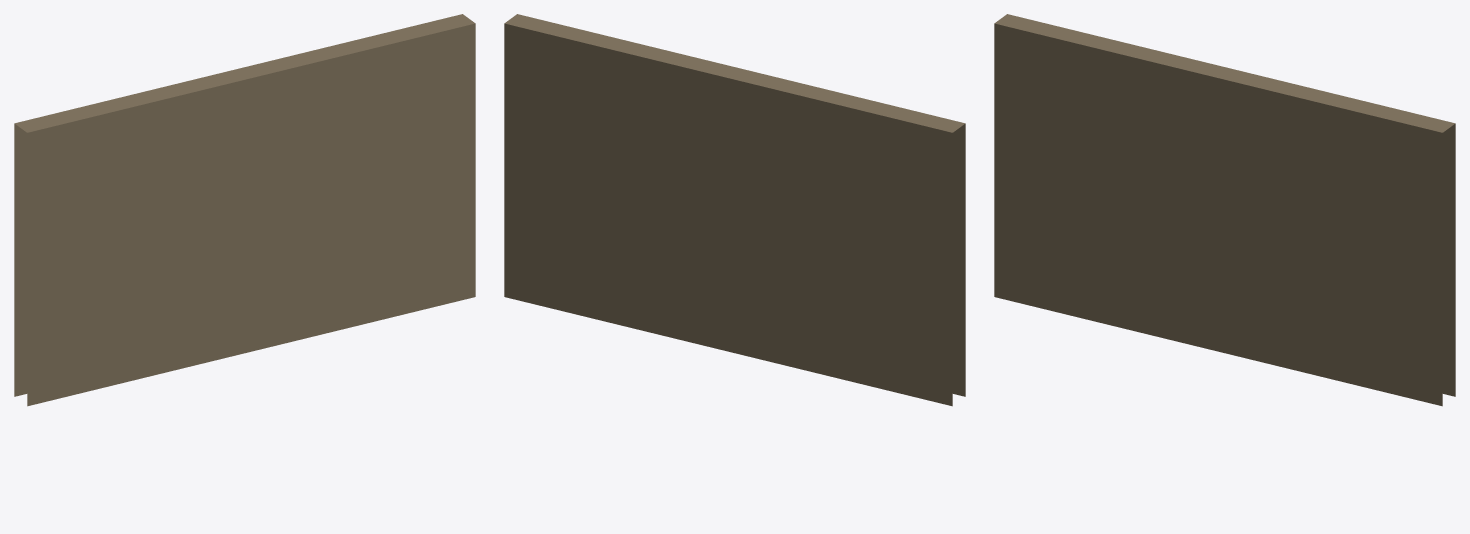
File: SM_Wall_400.fbx
3 views of the same model, side by side, from view 1: azimuth 30°, elevation 25°; view 2: azimuth 150°, elevation 25°; view 3: azimuth 330°, elevation 25° (orthographic).
Parts seen in each view (by area): view 1: SM_Wall_400; view 2: SM_Wall_400; view 3: SM_Wall_400.
Boxes of the visible parts, bbox=[...] form: SM_Wall_400: bbox=[14, 14, 475, 406]; SM_Wall_400: bbox=[504, 14, 965, 406]; SM_Wall_400: bbox=[994, 14, 1455, 406].
Size of the model in its own units: 400 by 330 by 20.
Materials: 3 (3 with a texture image).
